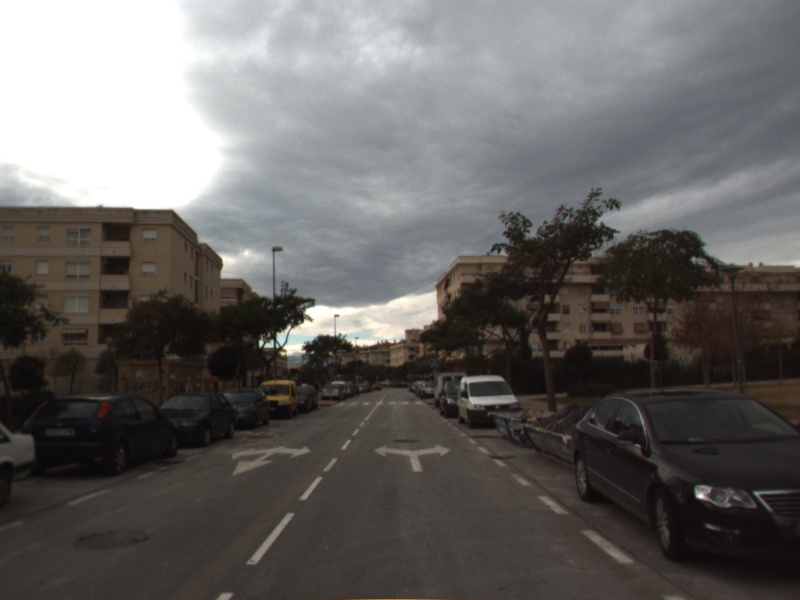LEFT_RIGHT: (372, 442, 453, 474)
